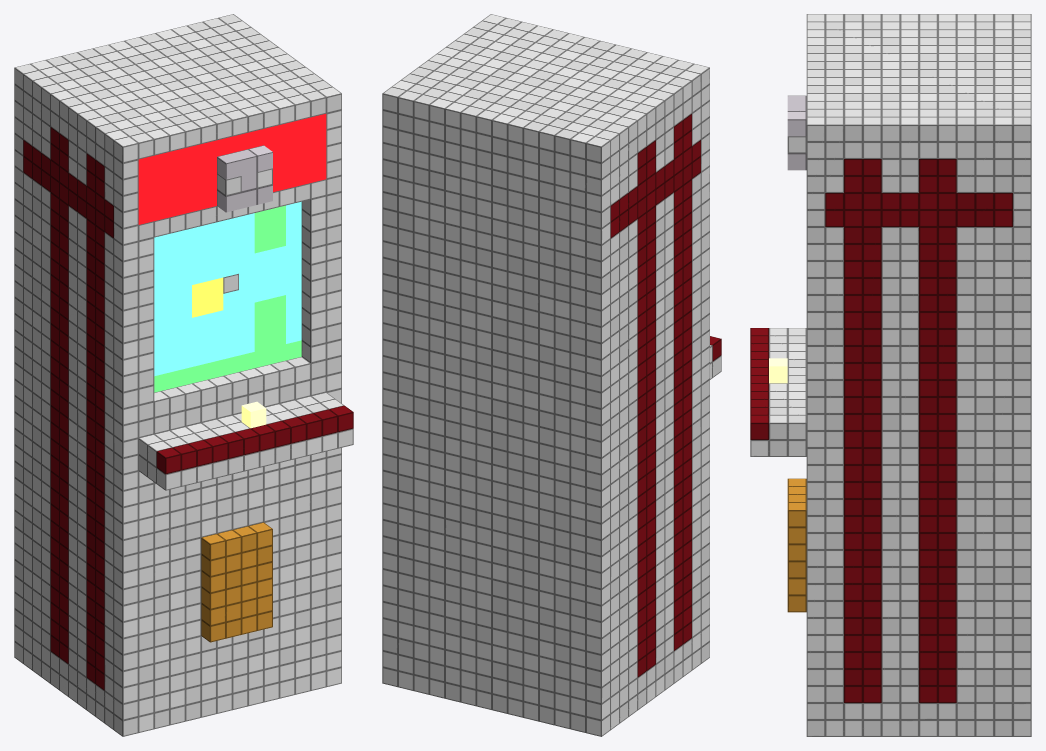
File: game_cabinet_bc.glb
The picture shows the model from 3 angles, left to right: view 1: azimuth 30°, elevation 25°; view 2: azimuth 150°, elevation 25°; view 3: azimuth 270°, elevation 25°; orthographic projection. The views are drawn at different scales.
Parts seen in each view (by area): view 1: game_cabinet_bc; view 2: game_cabinet_bc; view 3: game_cabinet_bc.
Boxes of the visible parts, box(x1,y1,x2,y2) form: game_cabinet_bc: box(14, 14, 353, 736); game_cabinet_bc: box(382, 14, 721, 736); game_cabinet_bc: box(750, 14, 1031, 736).
Bounding box in the file's own units: 0.7 × 1.8 × 0.75.
10 materials, 5 textured.
